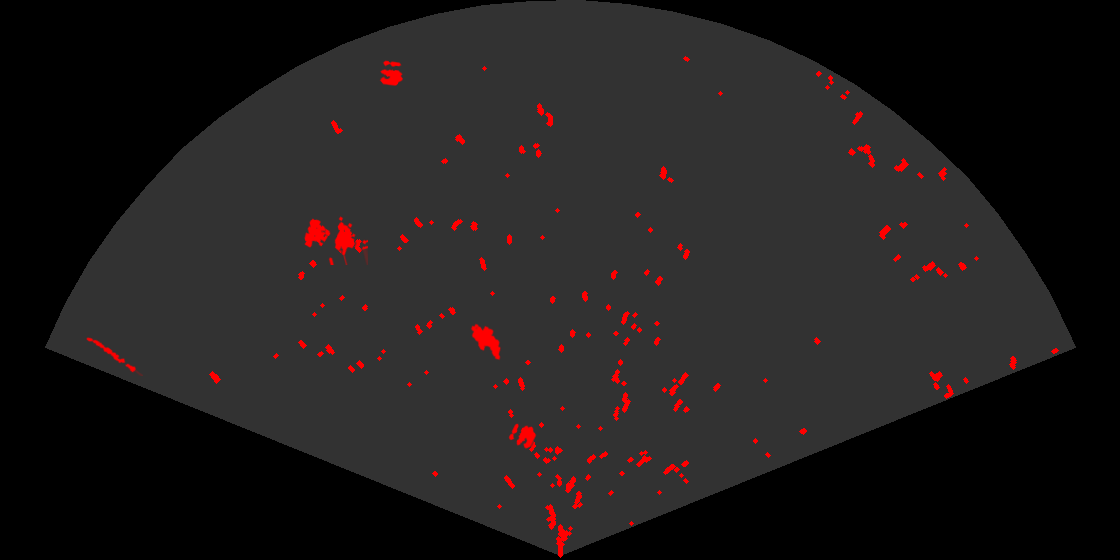AUV: (469, 322, 502, 362)
ball: (507, 422, 538, 451), (378, 59, 404, 87)
cage: (303, 215, 368, 265)
chain: (85, 336, 143, 376)
